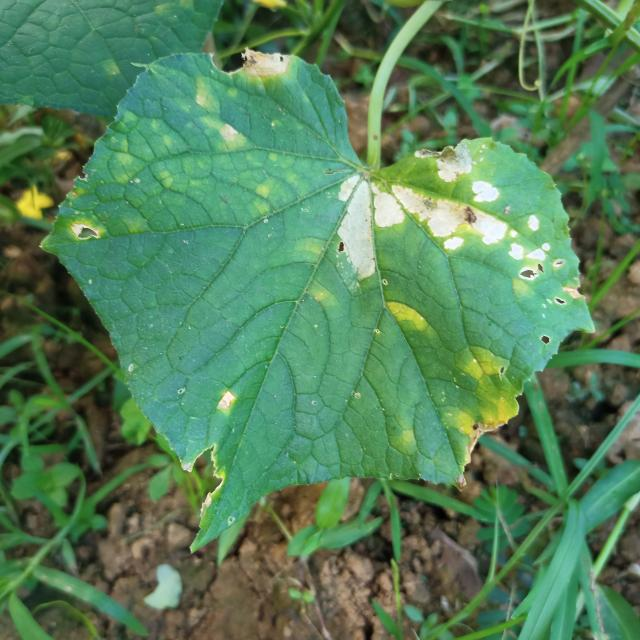disease_cucumber: (332, 143, 572, 294), (440, 341, 526, 445), (180, 82, 256, 156), (383, 294, 436, 334)
